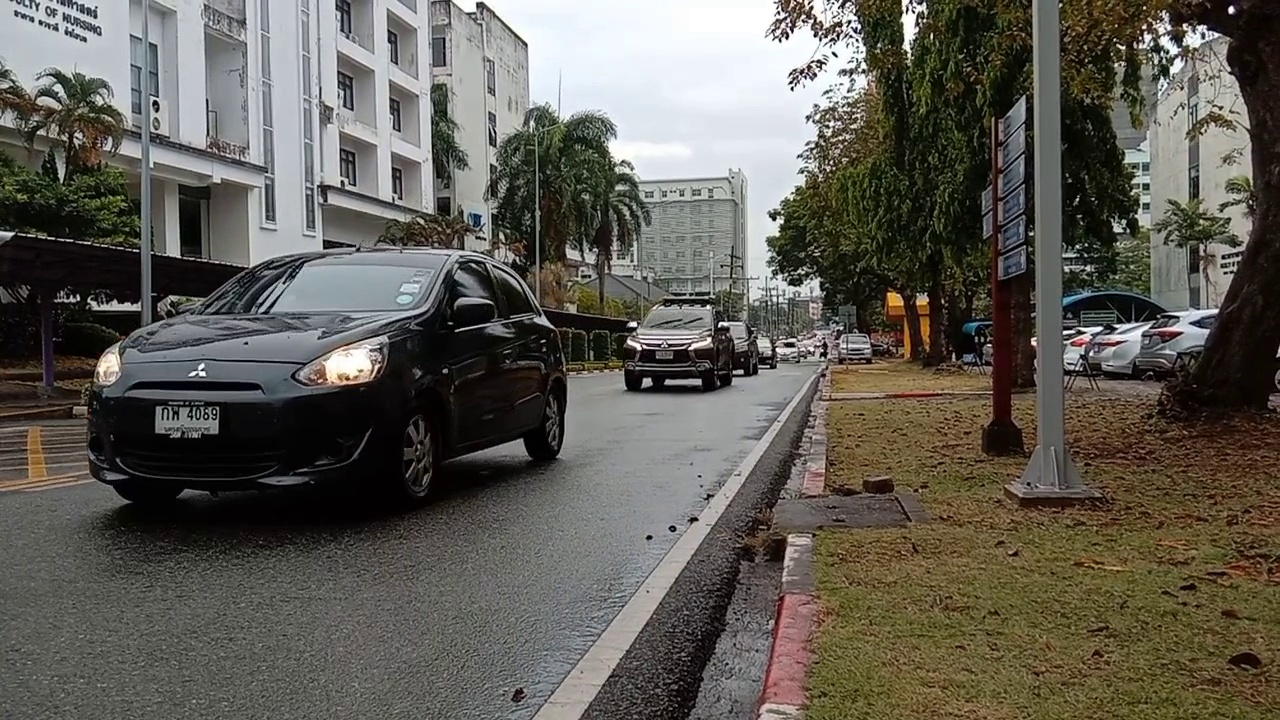License Plate: (152, 403, 219, 438), (653, 348, 673, 360)
